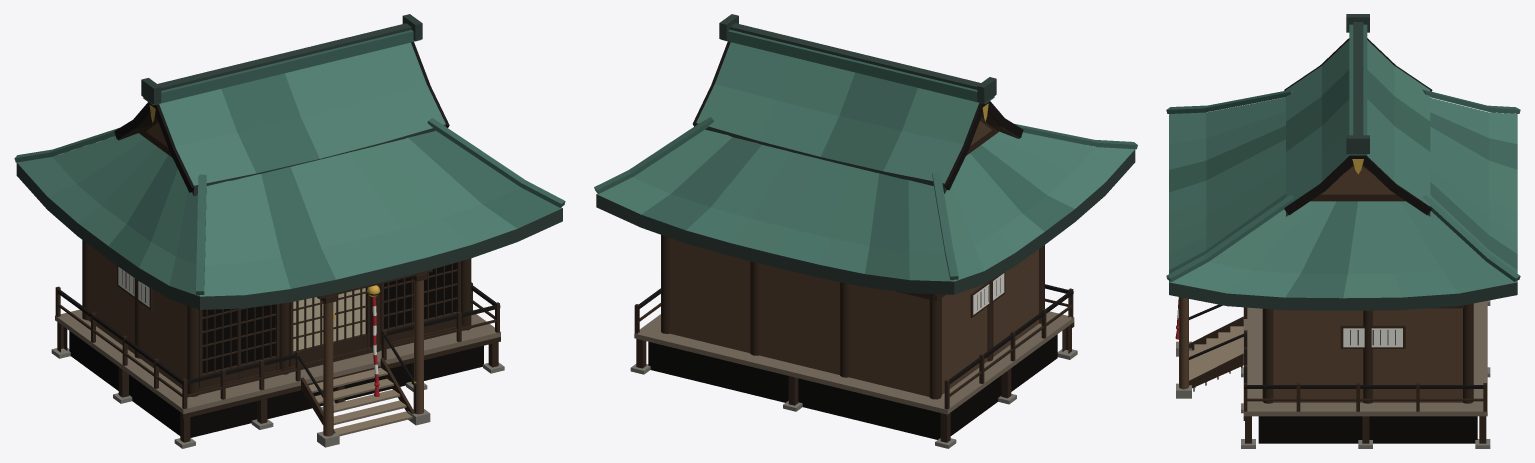
Rendered from haiden.glb.
3 renders of one model, left to right at view 1: azimuth 30°, elevation 25°; view 2: azimuth 150°, elevation 25°; view 3: azimuth 270°, elevation 25°, orthographic. The views are drawn at different scales.
Visible parts, largest first — view 1: haiden; view 2: haiden; view 3: haiden.
Boxes of the visible parts, x1,y1,x2,y2 form: haiden: [14, 14, 565, 448]; haiden: [594, 14, 1137, 448]; haiden: [1166, 14, 1520, 448].
Bounding box in the file's own units: 8.15 × 6.6 × 7.11.
